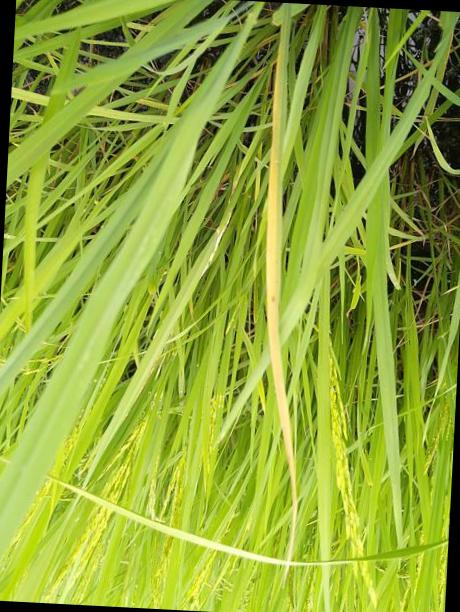Leaf Blight: (262, 67, 295, 513)
